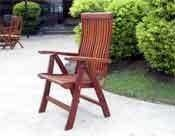obstacle: (39, 12, 111, 129)
